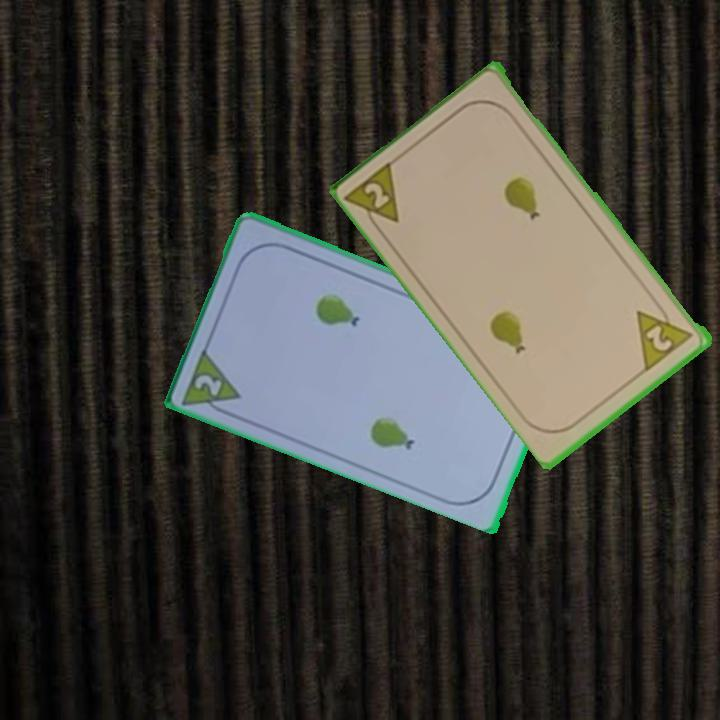2p: (178, 343, 246, 421), (343, 156, 403, 239), (633, 297, 697, 373)
